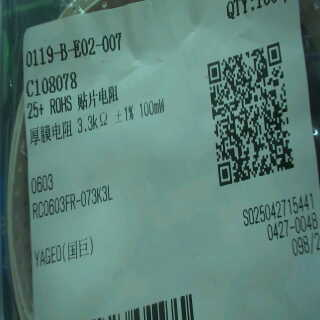3.3kO: (71, 110, 113, 139)
